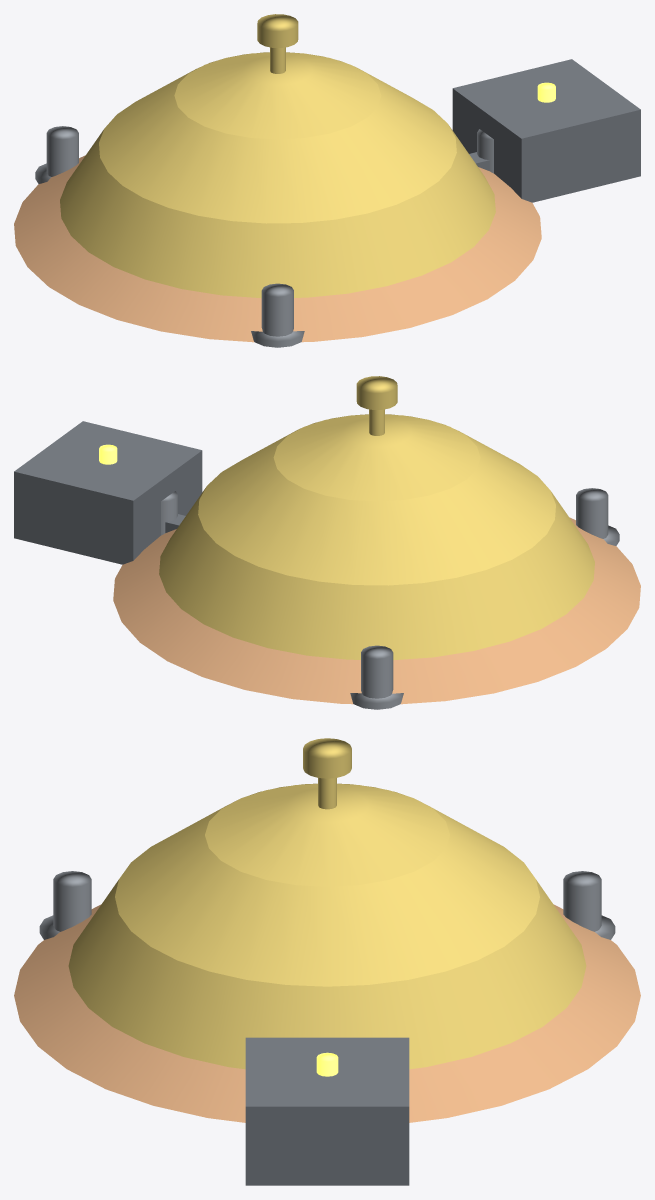
The model's file is seis_station.glb.
3 views of the same model, one above another, from view 1: azimuth 30°, elevation 25°; view 2: azimuth 150°, elevation 25°; view 3: azimuth 270°, elevation 25° (orthographic). The views are drawn at different scales.
Visible parts, largest first — view 1: EquipmentRoot; view 2: EquipmentRoot; view 3: EquipmentRoot.
Part boxes in pixels (box(x1,y1,x2,y2)): EquipmentRoot: box(14, 14, 640, 347); EquipmentRoot: box(14, 376, 640, 709); EquipmentRoot: box(14, 738, 640, 1185).
Size of the model in its own units: 2.8 by 1 by 2.3.
